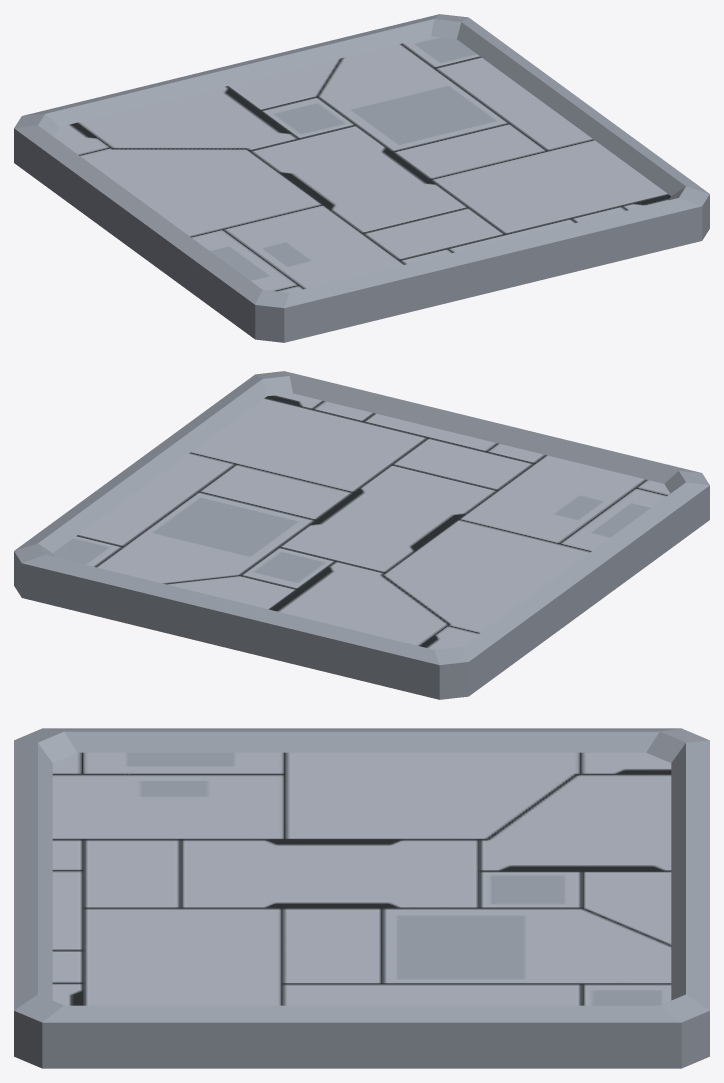
The model's file is SM_Prop_Greeble_Panel_07.fbx.
3 views of the same model, one above another, from view 1: azimuth 30°, elevation 25°; view 2: azimuth 150°, elevation 25°; view 3: azimuth 270°, elevation 25° (orthographic). The views are drawn at different scales.
Parts seen in each view (by area): view 1: SM_Prop_Greeble_Panel_07; view 2: SM_Prop_Greeble_Panel_07; view 3: SM_Prop_Greeble_Panel_07.
Boxes of the visible parts, x1=… form: SM_Prop_Greeble_Panel_07: x1=14, y1=14, x2=709, y2=342; SM_Prop_Greeble_Panel_07: x1=14, y1=371, x2=709, y2=699; SM_Prop_Greeble_Panel_07: x1=14, y1=728, x2=709, y2=1068.
Bounding box in the file's own units: 105 × 10 × 105.
Materials: 1 (1 with a texture image).
